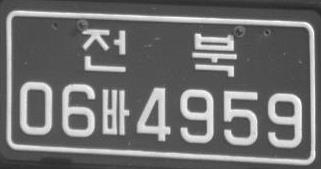0: (18, 80, 52, 134)
4: (136, 87, 170, 142)
5: (223, 89, 258, 145)
6: (61, 82, 96, 137)
9: (266, 92, 303, 148), (179, 87, 214, 143)
바: (101, 87, 130, 136)
전북_D: (81, 27, 237, 77)
